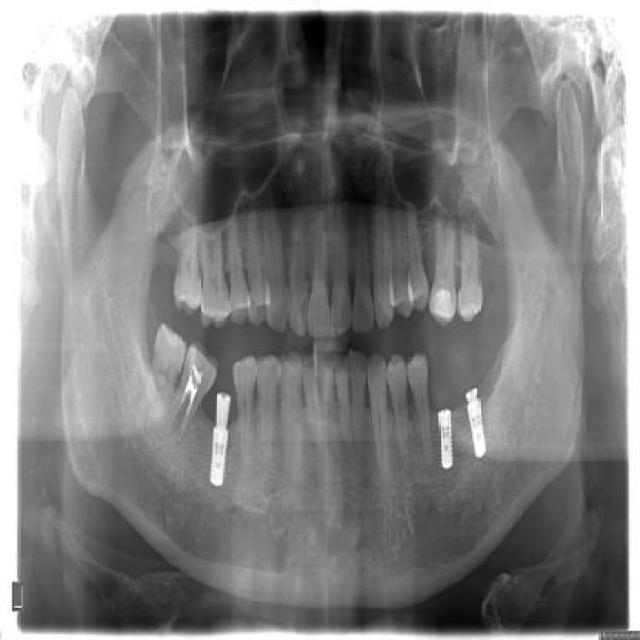dolgu: (428, 281, 458, 322)
implant: (204, 387, 241, 492), (459, 381, 495, 467), (434, 404, 457, 472)
kanal-tedavisi: (163, 365, 208, 441)
